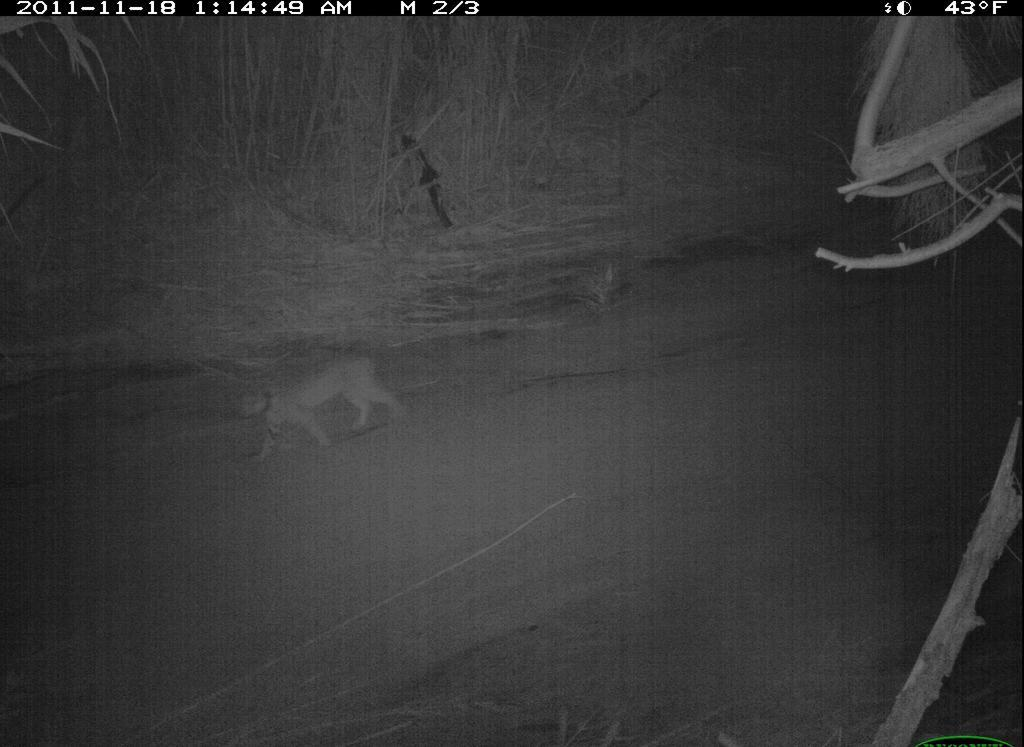bobcat: (236, 350, 414, 471)
